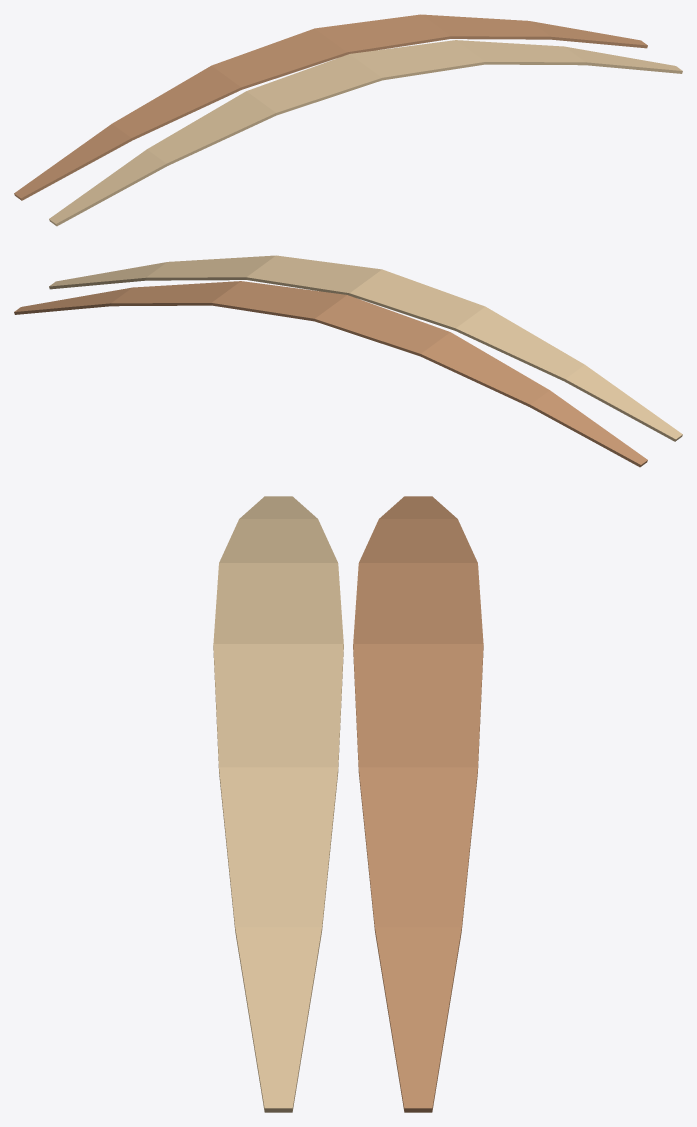
The model's file is prop-lute-rib-blank.fbx.
3 views of the same model, one above another, from view 1: azimuth 30°, elevation 25°; view 2: azimuth 150°, elevation 25°; view 3: azimuth 270°, elevation 25° (orthographic). The views are drawn at different scales.
Visible parts, largest first — view 1: prop-lute-rib-blank; view 2: prop-lute-rib-blank; view 3: prop-lute-rib-blank.
Boxes of the visible parts, <box> form: prop-lute-rib-blank: <box>14,14,682,226</box>; prop-lute-rib-blank: <box>14,255,682,467</box>; prop-lute-rib-blank: <box>213,496,483,1112</box>.
Size of the model in its own units: 62.19 by 7.75 by 11.6.
